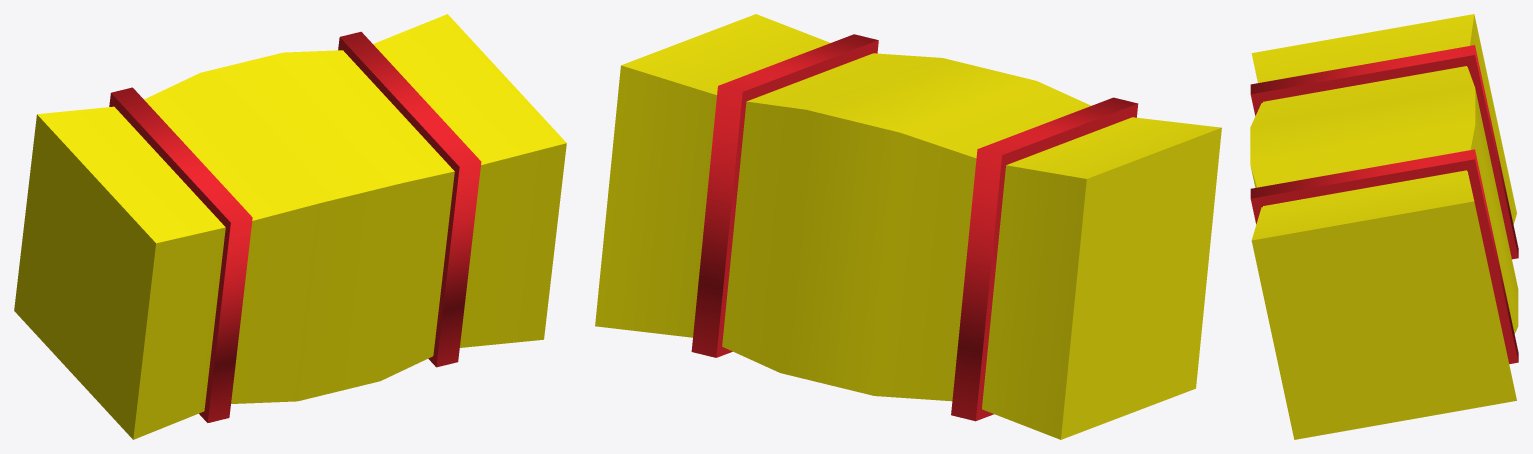
The model's file is Hay Stack.fbx.
The picture shows the model from 3 angles, left to right: view 1: azimuth 30°, elevation 25°; view 2: azimuth 150°, elevation 25°; view 3: azimuth 270°, elevation 25°; orthographic projection. The views are drawn at different scales.
Parts seen in each view (by area): view 1: Hay; view 2: Hay; view 3: Hay.
Boxes of the visible parts, box(x1,y1,x2,y2) form: Hay: box(14, 14, 566, 439); Hay: box(595, 14, 1221, 439); Hay: box(1250, 14, 1518, 439).
Bounding box in the file's own units: 24.24 × 14.65 × 14.66.
1 material, 1 textured.
